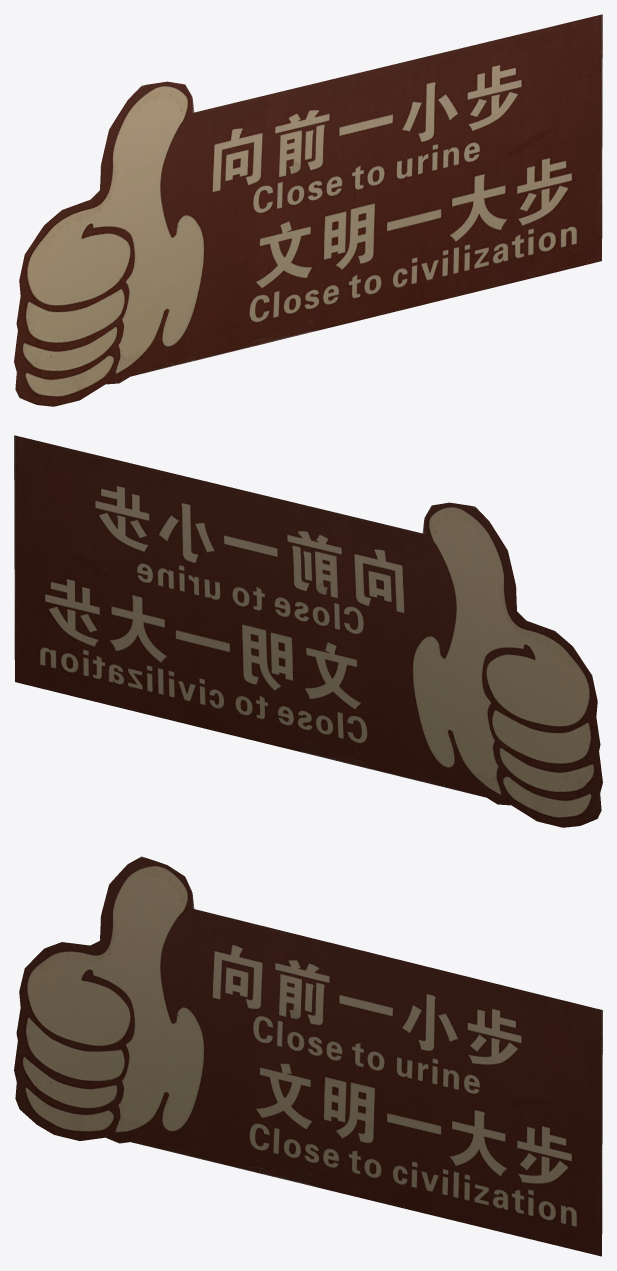
File: AC_POSTER2.glb
3 views of the same model, one above another, from view 1: azimuth 30°, elevation 25°; view 2: azimuth 150°, elevation 25°; view 3: azimuth 330°, elevation 25° (orthographic).
Parts seen in each view (by area): view 1: POSTER2_2048; view 2: POSTER2_2048; view 3: POSTER2_2048.
Part boxes in pixels (box(x1,y1,x2,y2)): POSTER2_2048: box(14, 14, 602, 406); POSTER2_2048: box(14, 435, 602, 827); POSTER2_2048: box(14, 856, 602, 1256).
Bounding box in the file's own units: 0.2054 × 0.0999 × 2.22e-17.
1 material, 1 textured.
